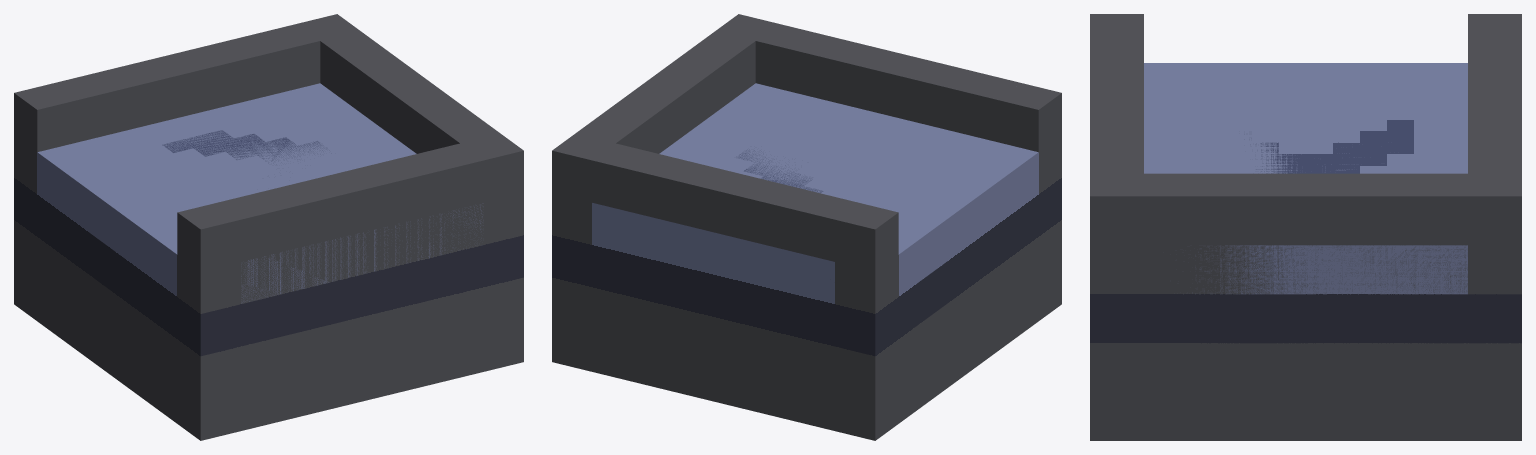
The model's file is Conveyer.fbx.
3 views of the same model, side by side, from view 1: azimuth 30°, elevation 25°; view 2: azimuth 150°, elevation 25°; view 3: azimuth 270°, elevation 25° (orthographic). The views are drawn at different scales.
Visible parts, largest first — view 1: Conveyer Straight, Conveyer TurnL, Conveyer TurnR; view 2: Conveyer TurnL, Conveyer Straight, Conveyer TurnR; view 3: Conveyer Straight, Conveyer TurnL, Conveyer TurnR.
Part boxes in pixels (left/top/right/bottom): Conveyer Straight: left=14, top=14, right=523, bottom=440; Conveyer TurnL: left=14, top=31, right=499, bottom=440; Conveyer TurnR: left=37, top=32, right=523, bottom=432; Conveyer TurnL: left=552, top=15, right=1053, bottom=440; Conveyer Straight: left=552, top=14, right=1061, bottom=440; Conveyer TurnR: left=576, top=14, right=1061, bottom=260; Conveyer Straight: left=1090, top=14, right=1521, bottom=440; Conveyer TurnL: left=1090, top=14, right=1467, bottom=440; Conveyer TurnR: left=1090, top=14, right=1521, bottom=440.
Bounding box in the file's own units: 100 × 62.5 × 100.
